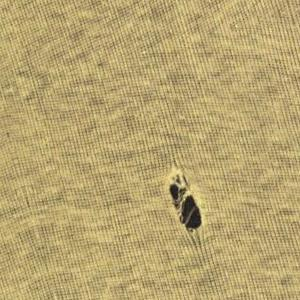hole: (163, 168, 209, 234)
